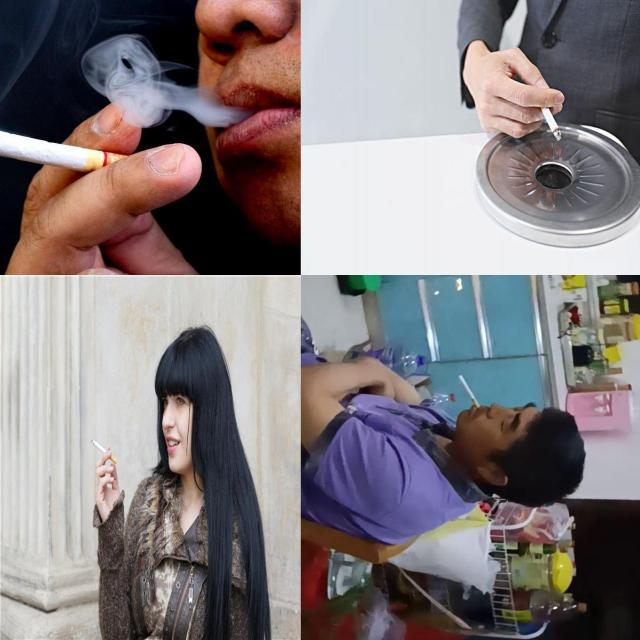cigarette: (0, 114, 169, 190), (538, 98, 564, 140), (89, 434, 118, 468), (459, 375, 480, 409)
